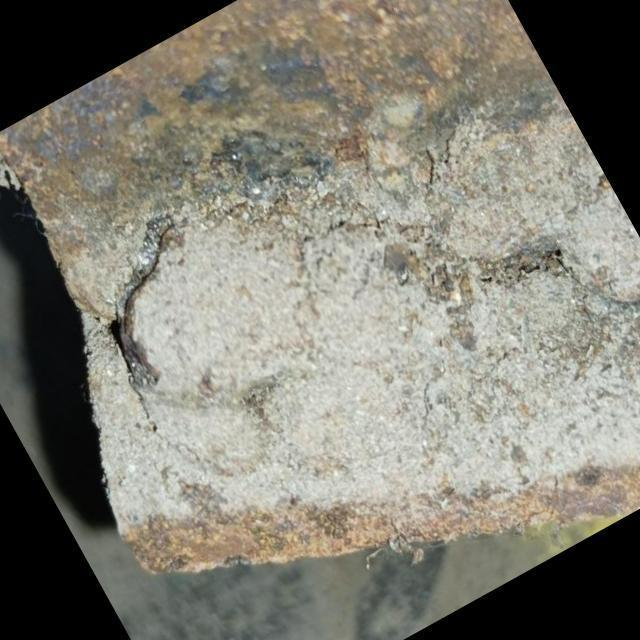defect: (104, 213, 181, 425)
